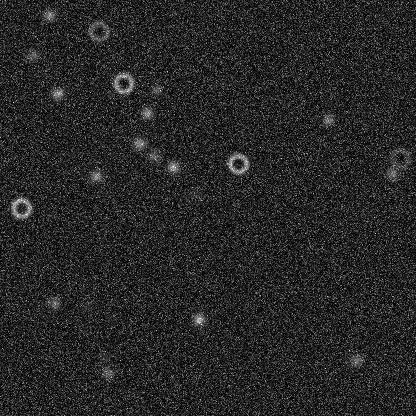Ring: (388, 146, 412, 170), (111, 71, 135, 95), (9, 195, 33, 219), (225, 151, 249, 175), (86, 19, 110, 43)
Spot: (96, 349, 112, 365), (139, 104, 155, 120), (191, 311, 207, 327), (77, 296, 93, 312), (187, 185, 203, 201), (145, 148, 161, 164), (384, 165, 400, 181), (348, 352, 364, 368), (320, 111, 336, 127), (147, 81, 163, 97), (49, 85, 65, 101), (41, 7, 57, 23), (88, 168, 104, 184), (99, 365, 115, 381), (164, 158, 180, 174), (46, 295, 62, 311), (230, 53, 246, 69), (24, 47, 40, 63), (131, 135, 147, 151)
